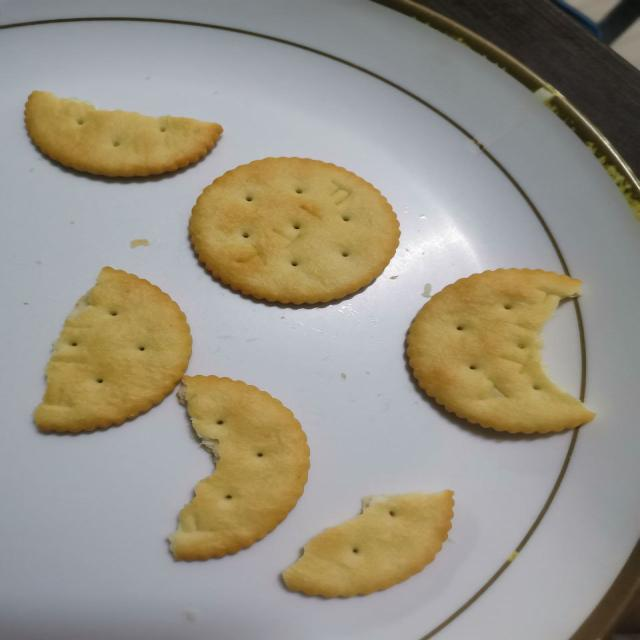broken biscuit: (403, 266, 596, 436), (164, 373, 310, 563), (31, 265, 193, 435), (289, 489, 457, 599), (22, 88, 223, 179)
intact biscuit: (187, 154, 401, 306)
